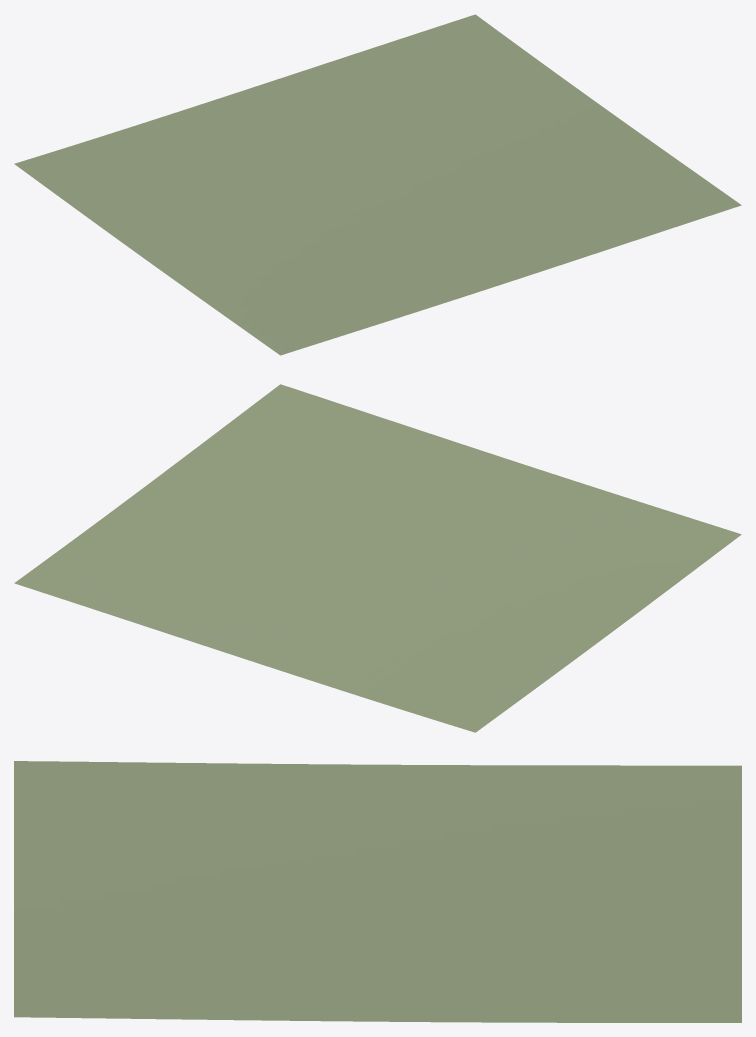
File: expanse-10-8.glb
3 renders of one model, top to bottom at view 1: azimuth 30°, elevation 25°; view 2: azimuth 150°, elevation 25°; view 3: azimuth 270°, elevation 25°, orthographic. The views are drawn at different scales.
Parts seen in each view (by area): view 1: expanse-10-8; view 2: expanse-10-8; view 3: expanse-10-8.
Part boxes in pixels (x1,y1,x2,y2): expanse-10-8: (14, 14, 741, 355); expanse-10-8: (14, 384, 741, 732); expanse-10-8: (14, 761, 741, 1022).
Bounding box in the file's own units: 256 × 21.7 × 256.
